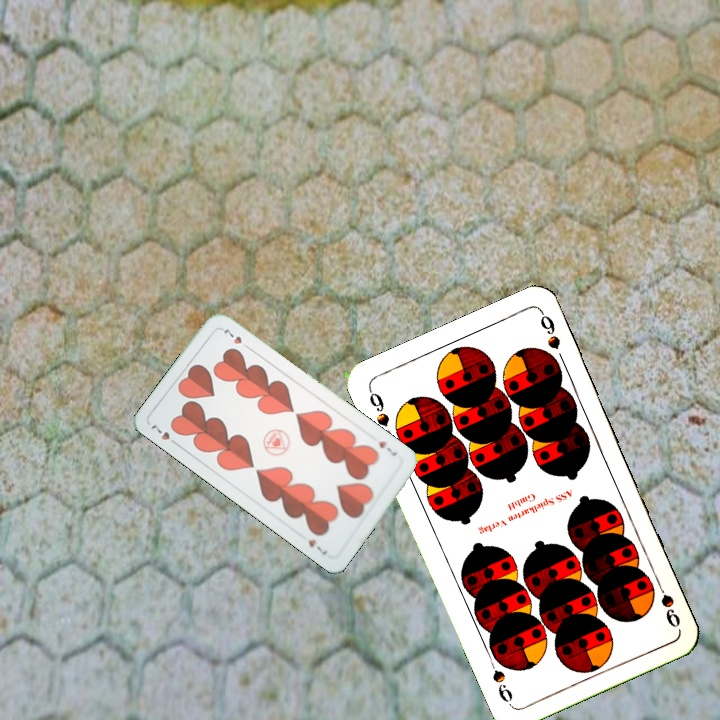H7: (147, 418, 181, 449), (375, 437, 400, 459)
S9: (651, 574, 683, 631), (364, 385, 392, 430)
